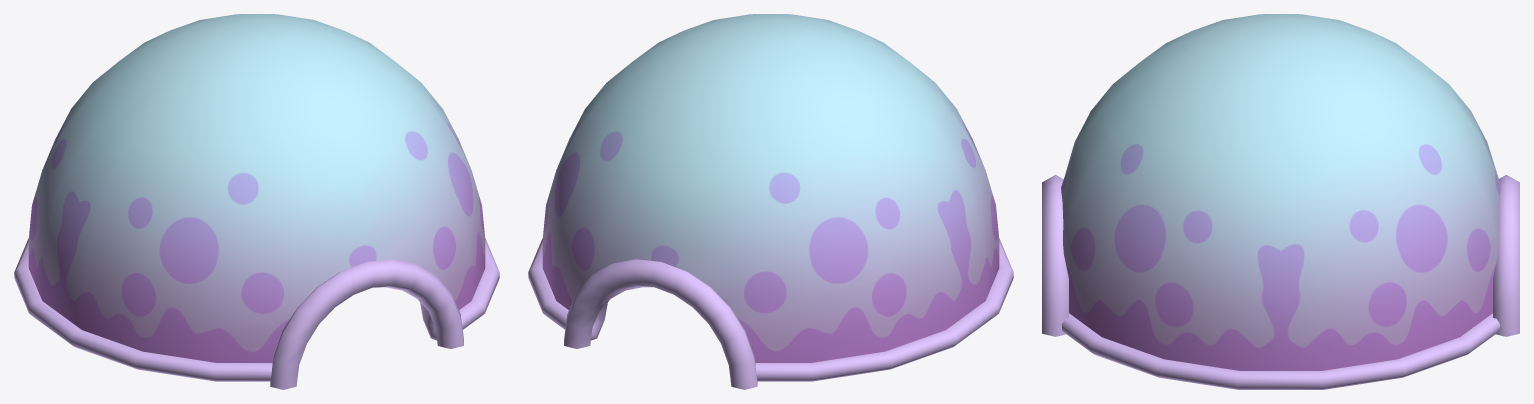
The model's file is CapsuleA.FBX.
3 views of the same model, side by side, from view 1: azimuth 30°, elevation 25°; view 2: azimuth 150°, elevation 25°; view 3: azimuth 270°, elevation 25° (orthographic). The views are drawn at different scales.
Visible parts, largest first — view 1: Capsule041; view 2: Capsule041; view 3: Capsule041.
Boxes of the visible parts, x1,y1,x2,y2 form: Capsule041: [14, 14, 499, 389]; Capsule041: [528, 14, 1013, 389]; Capsule041: [1042, 14, 1519, 389].
Size of the model in its own units: 268 by 262 by 154.
